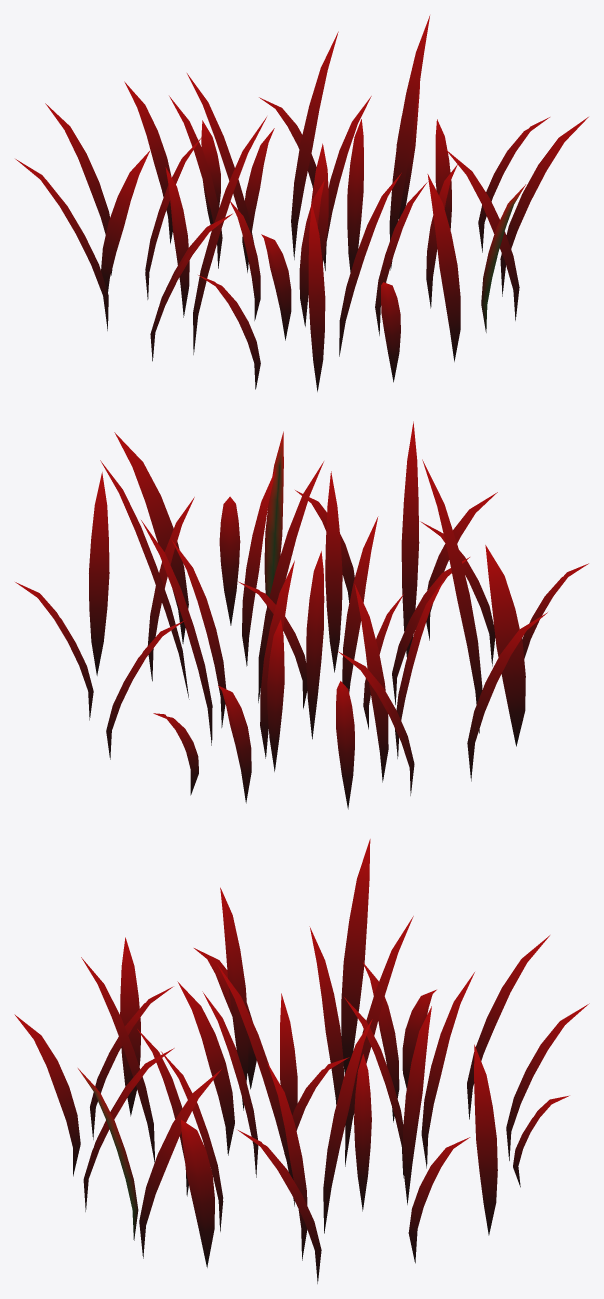
Rendered from GrassTest.fbx.
3 views of the same model, one above another, from view 1: azimuth 30°, elevation 25°; view 2: azimuth 150°, elevation 25°; view 3: azimuth 270°, elevation 25° (orthographic). The views are drawn at different scales.
Parts seen in each view (by area): view 1: Grass; view 2: Grass; view 3: Grass.
Part boxes in pixels (x1,y1,x2,y2): Grass: (15, 16, 588, 391); Grass: (15, 421, 588, 809); Grass: (14, 839, 589, 1283).
Size of the model in its own units: 210 by 97.59 by 193.
